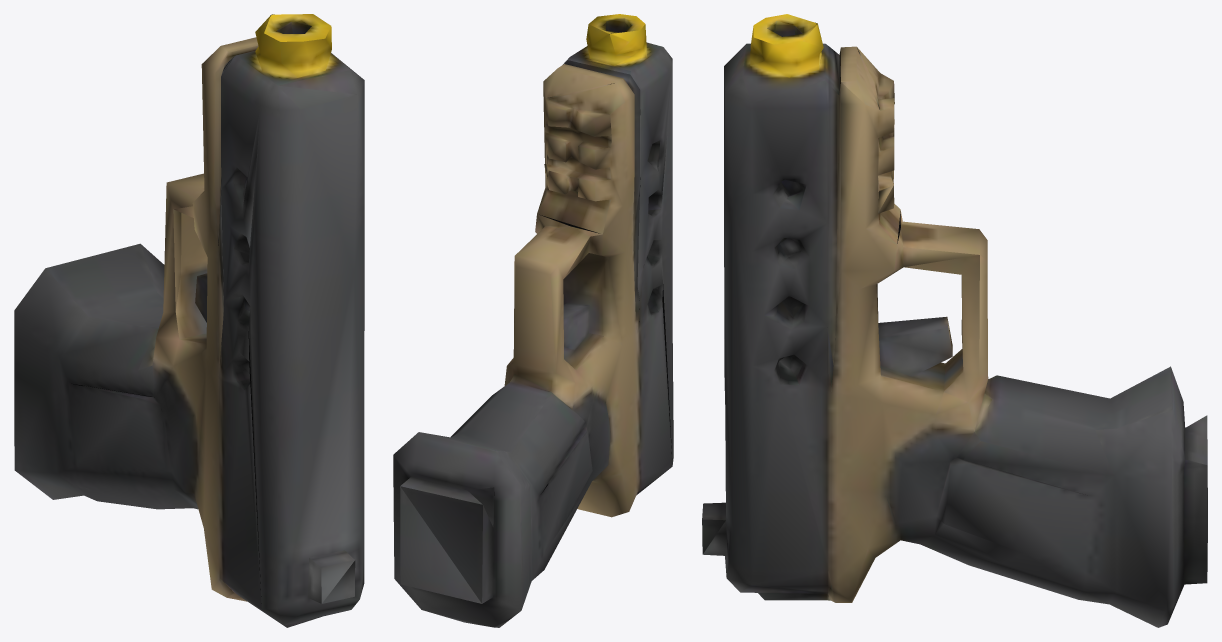
The model's file is hawk50.glb.
3 views of the same model, side by side, from view 1: azimuth 30°, elevation 25°; view 2: azimuth 150°, elevation 25°; view 3: azimuth 270°, elevation 25° (orthographic). The views are drawn at different scales.
Visible parts, largest first — view 1: part_slide, hawk50; view 2: hawk50, part_slide; view 3: hawk50, part_slide.
Boxes of the visible parts, bbox=[...] form: part_slide: bbox=[221, 14, 364, 627]; hawk50: bbox=[14, 14, 274, 601]; hawk50: bbox=[393, 33, 640, 627]; part_slide: bbox=[563, 14, 673, 495]; hawk50: bbox=[815, 22, 1207, 627]; part_slide: bbox=[702, 14, 828, 600].
Bounding box in the file's own units: 0.0776 × 0.2812 × 0.2217.
Materials: 1 (1 with a texture image).
